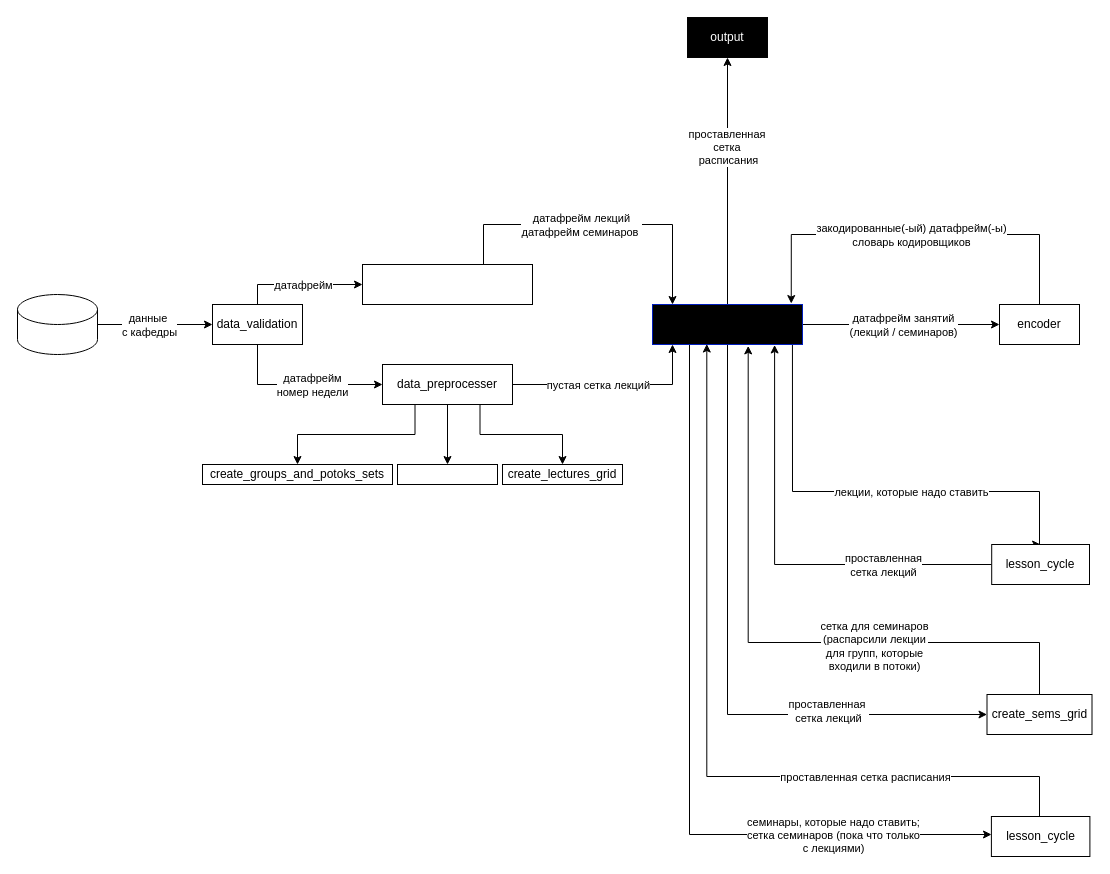
Image size: 1110x874. Some labels were removed from this diagram. The shapes that lost their labels are listed below. From the top down, each one's centre as x and y in pixels, then its label:
point (447, 284): split_lectures_and_seminars
point (57, 324): экселька
point (727, 324): main
point (447, 474): sets_encoder
